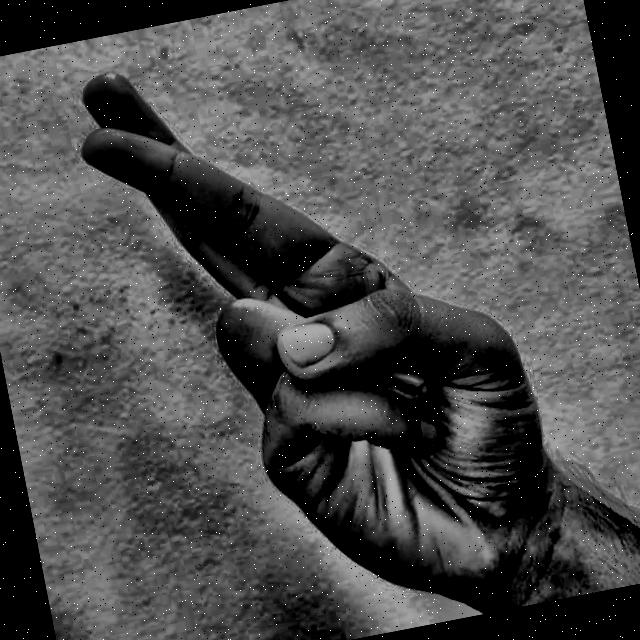Ra: (23, 0, 607, 640)
